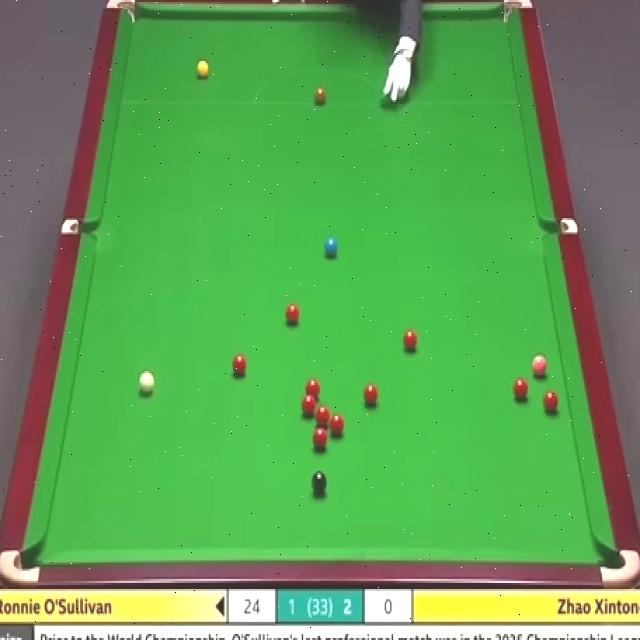black-ball: (312, 470, 328, 496)
blue-ball: (326, 235, 338, 258)
brown-ball: (313, 86, 328, 105)
pink-ball: (531, 354, 547, 376)
red-ball: (364, 382, 380, 409), (512, 376, 528, 402), (542, 390, 560, 413), (284, 304, 302, 326), (330, 412, 344, 437), (403, 329, 418, 352), (302, 395, 316, 419), (312, 428, 327, 450), (232, 352, 246, 375), (316, 408, 331, 429), (306, 379, 320, 401)
white-ball: (137, 370, 156, 394)
yellow-ball: (196, 58, 210, 81)
